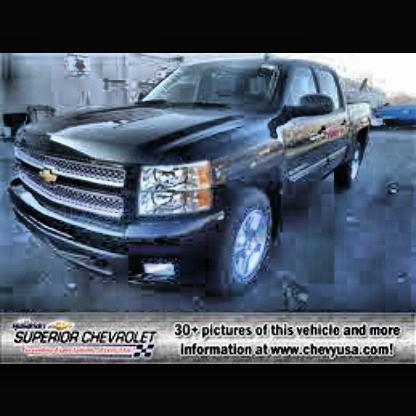Chevrolet Silverado 1500 Hybrid Crew Cab 2012: (7, 60, 373, 289)
